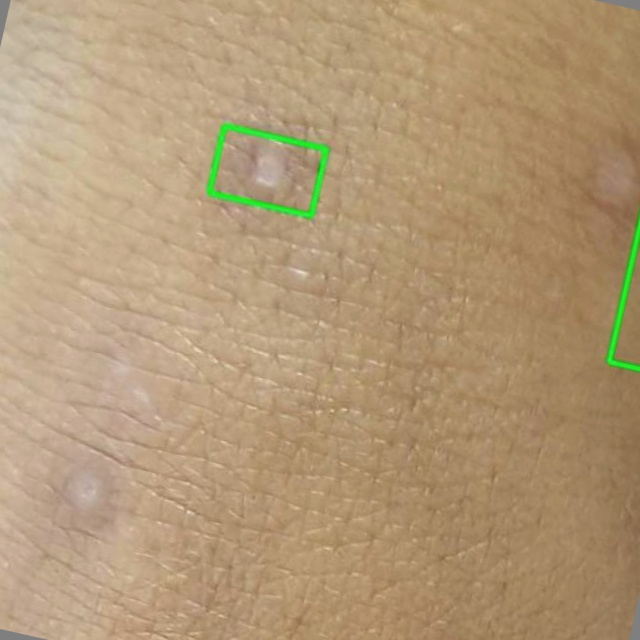Scabies: (209, 125, 326, 215)
